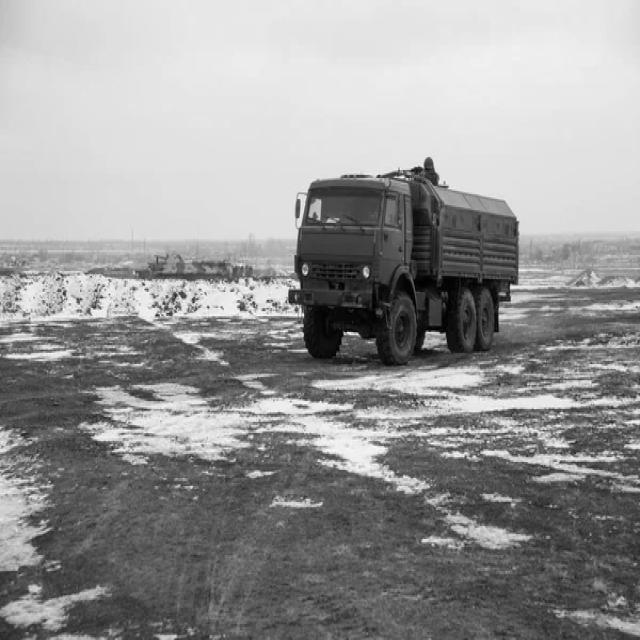Truck: (288, 167, 521, 365)
